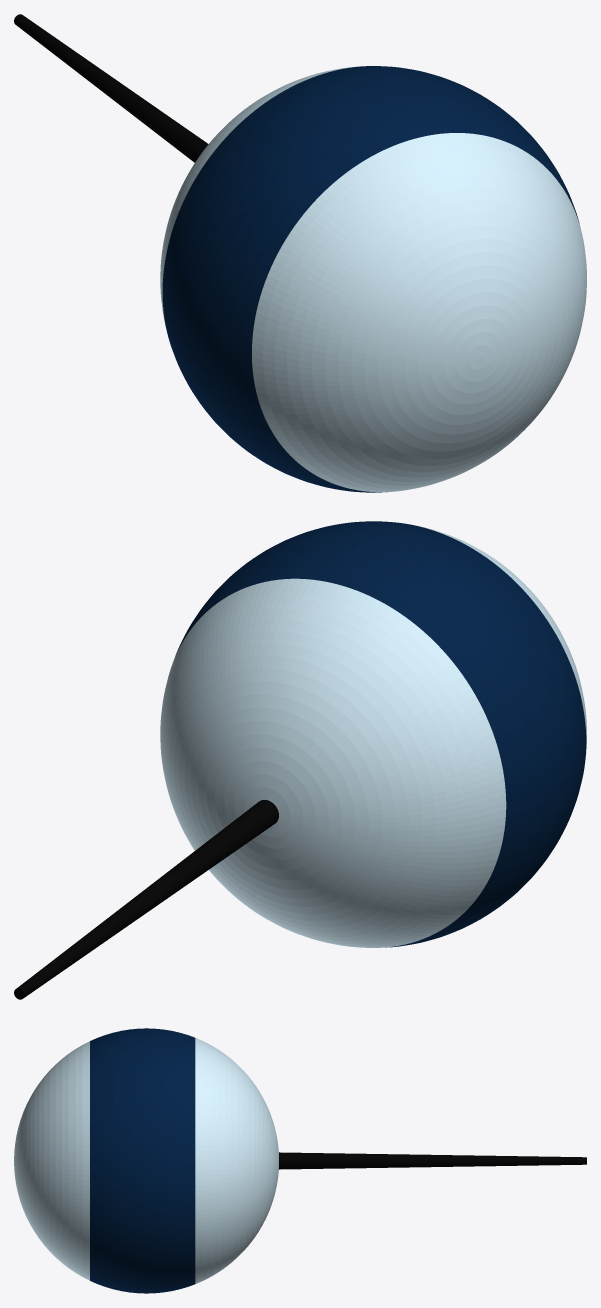
Rendered from londonS.glb.
3 views of the same model, one above another, from view 1: azimuth 30°, elevation 25°; view 2: azimuth 150°, elevation 25°; view 3: azimuth 270°, elevation 25° (orthographic). The views are drawn at different scales.
Visible parts, largest first — view 1: Sphere.017; view 2: Sphere.017; view 3: Sphere.017.
Boxes of the visible parts, box(x1,y1,x2,y2) form: Sphere.017: box(14, 14, 586, 492); Sphere.017: box(14, 521, 586, 999); Sphere.017: box(14, 1028, 586, 1293).
Size of the model in its own units: 0.6119 by 0.612 by 1.32.
